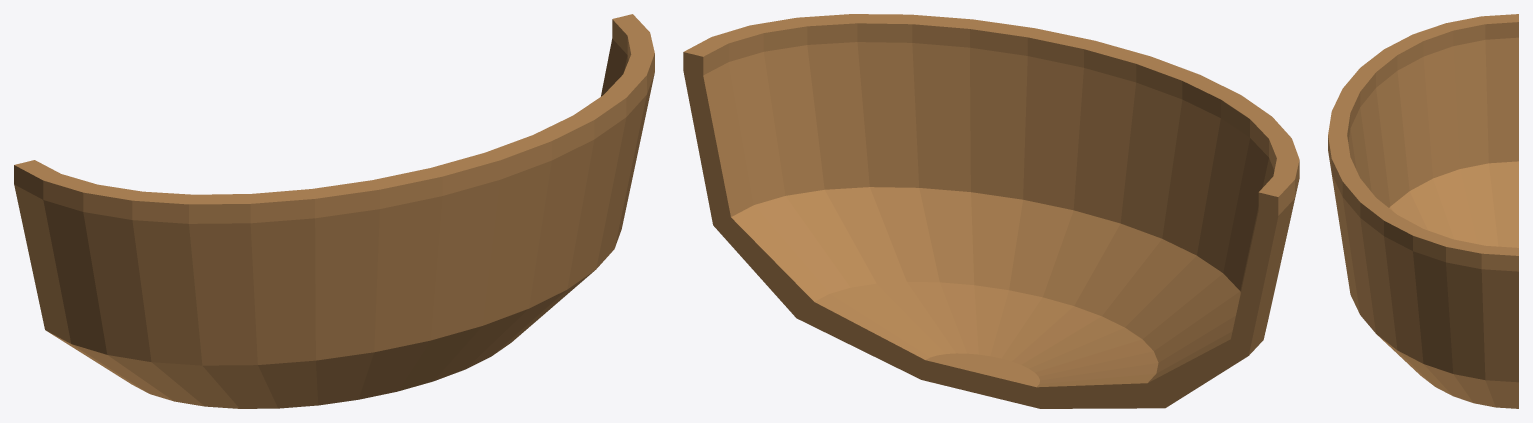
The model's file is BOTTOM_STERN.glb.
3 renders of one model, left to right at view 1: azimuth 30°, elevation 25°; view 2: azimuth 150°, elevation 25°; view 3: azimuth 270°, elevation 25°, orthographic. The views are drawn at different scales.
Size of the model in its own units: 6 by 2.6 by 2.
